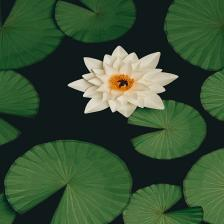green: (4, 140, 132, 224), (128, 100, 207, 159), (0, 0, 64, 69), (55, 0, 136, 43), (123, 184, 204, 224), (183, 149, 224, 224), (0, 70, 39, 117)
